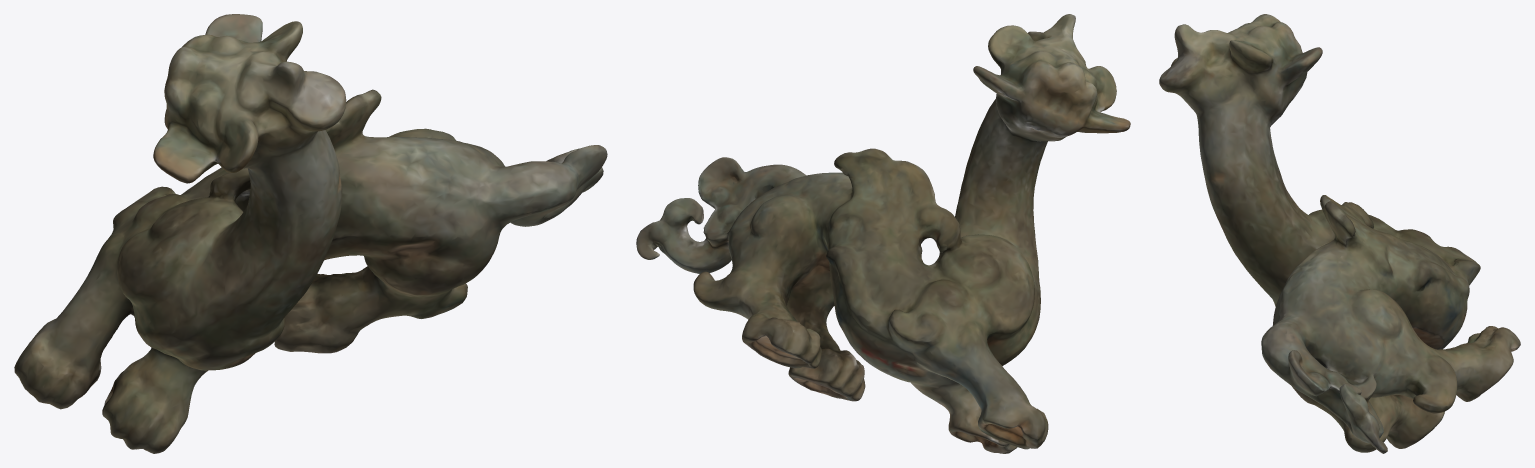
Rendered from 161129_mia337_001046_403_OBJ.obj.
3 renders of one model, left to right at view 1: azimuth 30°, elevation 25°; view 2: azimuth 150°, elevation 25°; view 3: azimuth 270°, elevation 25°, orthographic. The views are drawn at different scales.
Bounding box in the file's own units: 5.39 × 4.39 × 3.76.
